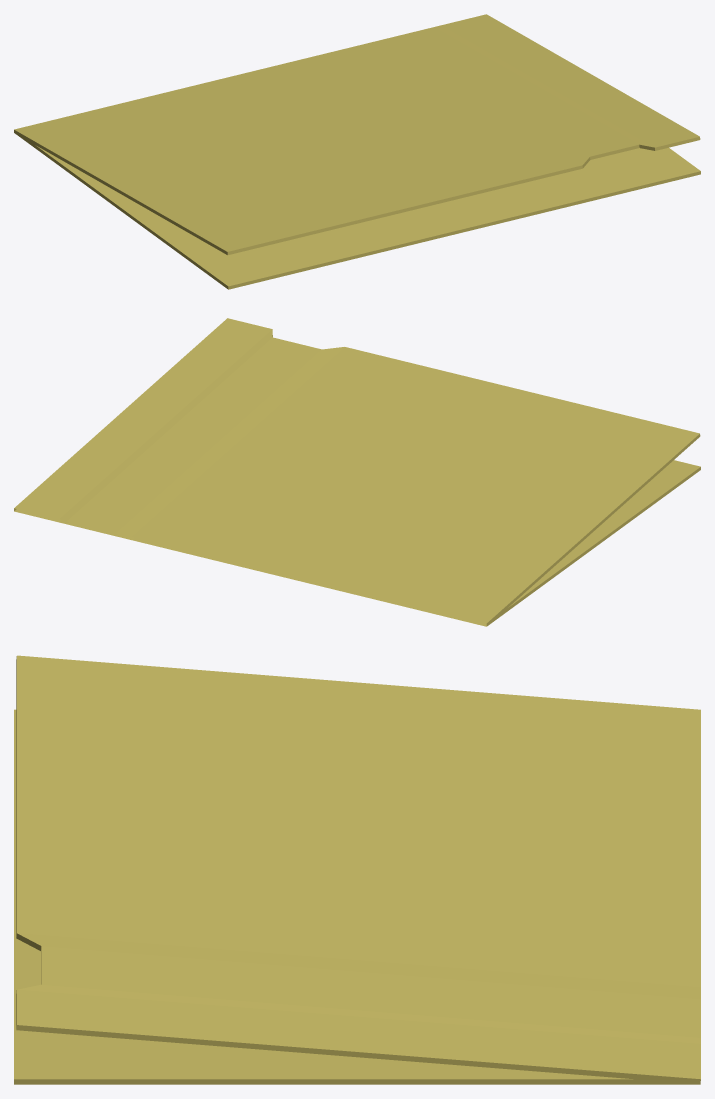
Rendered from Folder.glb.
The picture shows the model from 3 angles, top to bottom: view 1: azimuth 30°, elevation 25°; view 2: azimuth 150°, elevation 25°; view 3: azimuth 270°, elevation 25°; orthographic projection. The views are drawn at different scales.
Visible parts, largest first — view 1: FolderCover, FolderBack; view 2: FolderCover, FolderBack; view 3: FolderCover, FolderBack.
Boxes of the visible parts, bbox=[...] form: FolderCover: bbox=[14, 14, 700, 255]; FolderBack: bbox=[14, 131, 700, 289]; FolderCover: bbox=[14, 318, 700, 626]; FolderBack: bbox=[14, 460, 700, 625]; FolderCover: bbox=[16, 655, 700, 1084]; FolderBack: bbox=[14, 709, 700, 1084].
Bounding box in the file's own units: 1.27 × 0.0956 × 1.
